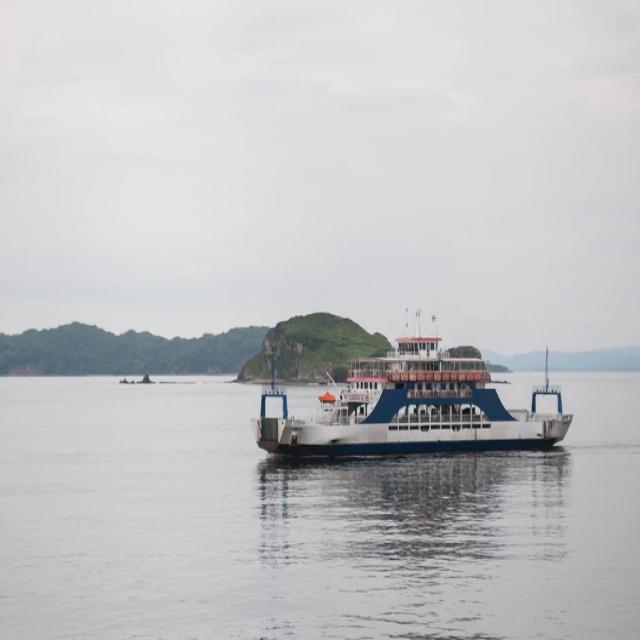passenger ship: (252, 300, 583, 461)
